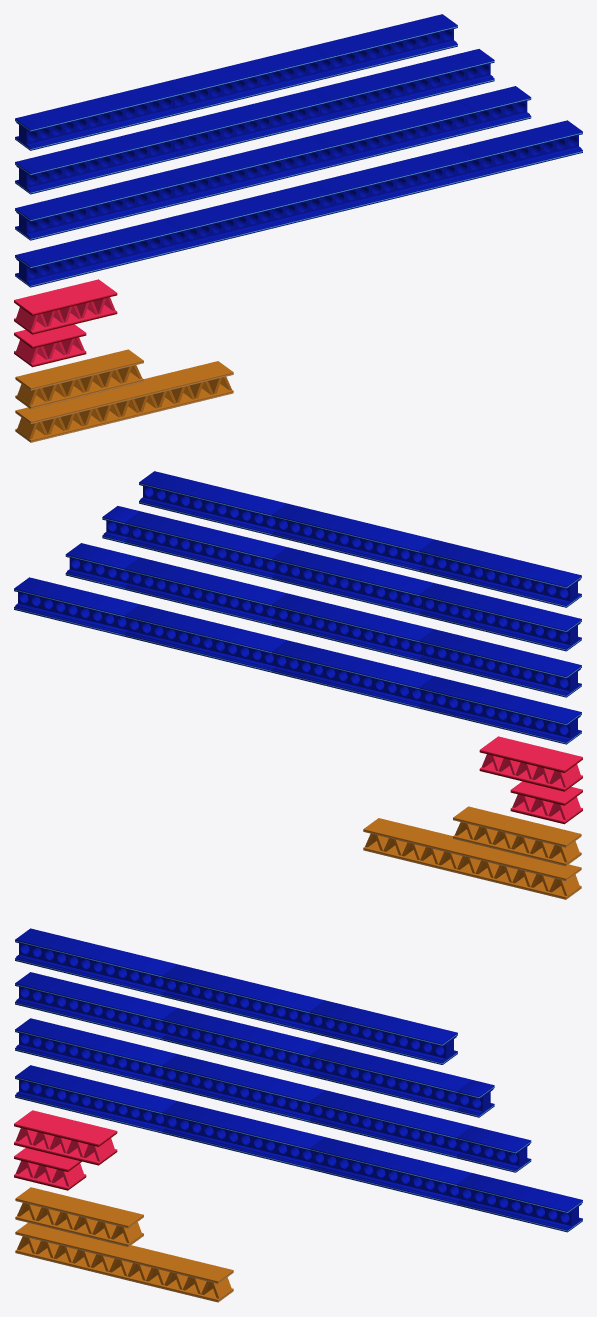
Rendered from All_floor-Fix.fbx.
3 views of the same model, one above another, from view 1: azimuth 30°, elevation 25°; view 2: azimuth 150°, elevation 25°; view 3: azimuth 330°, elevation 25° (orthographic).
Parts seen in each view (by area): view 1: Cube.001, Cube.002, Cube.003, Cube.006, Cube.014, Cube.016, Cube.010, Cube.012; view 2: Cube.001, Cube.002, Cube.003, Cube.006, Cube.014, Cube.016, Cube.010, Cube.012; view 3: Cube.001, Cube.002, Cube.003, Cube.006, Cube.014, Cube.016, Cube.010, Cube.012.
Part boxes in pixels (bbox=[...]): Cube.001: bbox=[15, 120, 582, 287]; Cube.002: bbox=[15, 86, 531, 240]; Cube.003: bbox=[15, 49, 494, 194]; Cube.006: bbox=[15, 14, 457, 150]; Cube.014: bbox=[15, 361, 233, 442]; Cube.016: bbox=[15, 349, 143, 409]; Cube.010: bbox=[14, 279, 117, 334]; Cube.012: bbox=[14, 324, 86, 367]; Cube.001: bbox=[14, 577, 581, 744]; Cube.002: bbox=[65, 543, 581, 697]; Cube.003: bbox=[102, 506, 581, 651]; Cube.006: bbox=[139, 471, 581, 607]; Cube.014: bbox=[363, 818, 581, 899]; Cube.016: bbox=[453, 806, 581, 866]; Cube.010: bbox=[479, 736, 582, 791]; Cube.012: bbox=[510, 781, 582, 824]; Cube.001: bbox=[15, 1065, 582, 1232]; Cube.002: bbox=[15, 1018, 531, 1172]; Cube.003: bbox=[15, 972, 494, 1117]; Cube.006: bbox=[15, 928, 457, 1064]; Cube.014: bbox=[15, 1222, 233, 1302]; Cube.016: bbox=[15, 1187, 143, 1246]; Cube.010: bbox=[14, 1110, 117, 1165]; Cube.012: bbox=[14, 1148, 86, 1190].
Bounding box in the file's own units: 4999 × 2710 × 290.
